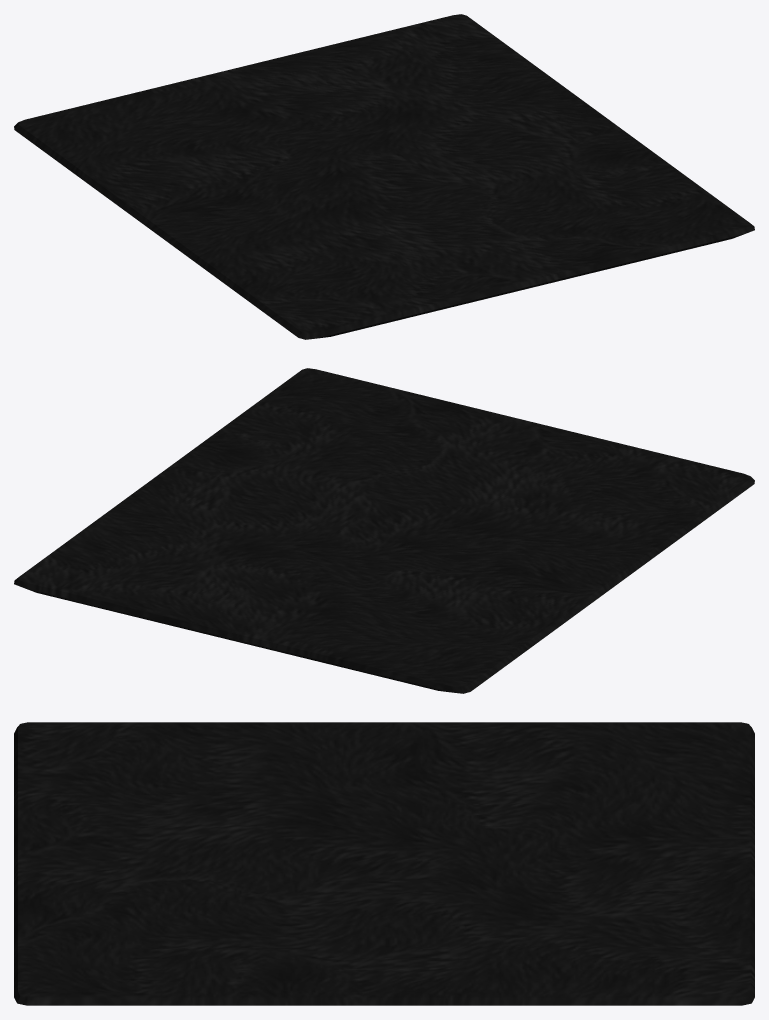
File: Throw_Rug_07.FBX
The picture shows the model from 3 angles, top to bottom: view 1: azimuth 30°, elevation 25°; view 2: azimuth 150°, elevation 25°; view 3: azimuth 270°, elevation 25°; orthographic projection. The views are drawn at different scales.
Parts seen in each view (by area): view 1: Shag_Carpet; view 2: Shag_Carpet; view 3: Shag_Carpet.
Boxes of the visible parts, <box> form: Shag_Carpet: <box>14,14,754,339</box>; Shag_Carpet: <box>14,368,754,693</box>; Shag_Carpet: <box>14,722,754,1005</box>.
Size of the model in its own units: 244 by 3.17 by 273.
